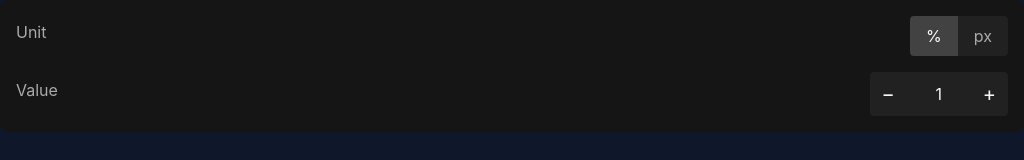
Test: UnitValueComponent › should show tooltip for invalid input on blur
Replace the text in the field with "-5". click: (939, 94)
box: [907,82,971,106]
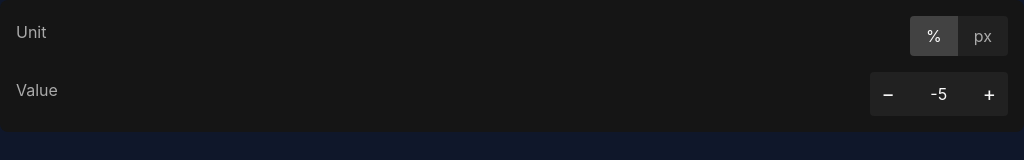
Leave the field, box [907,82,971,106]
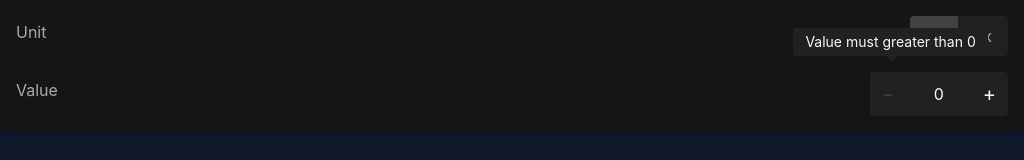
Expected: the text "Value must greater than 0" is shown, [793,28,988,56]
Expected: the text with class "tooltip" reads "Value must greater than 0", [805,33,976,50]
